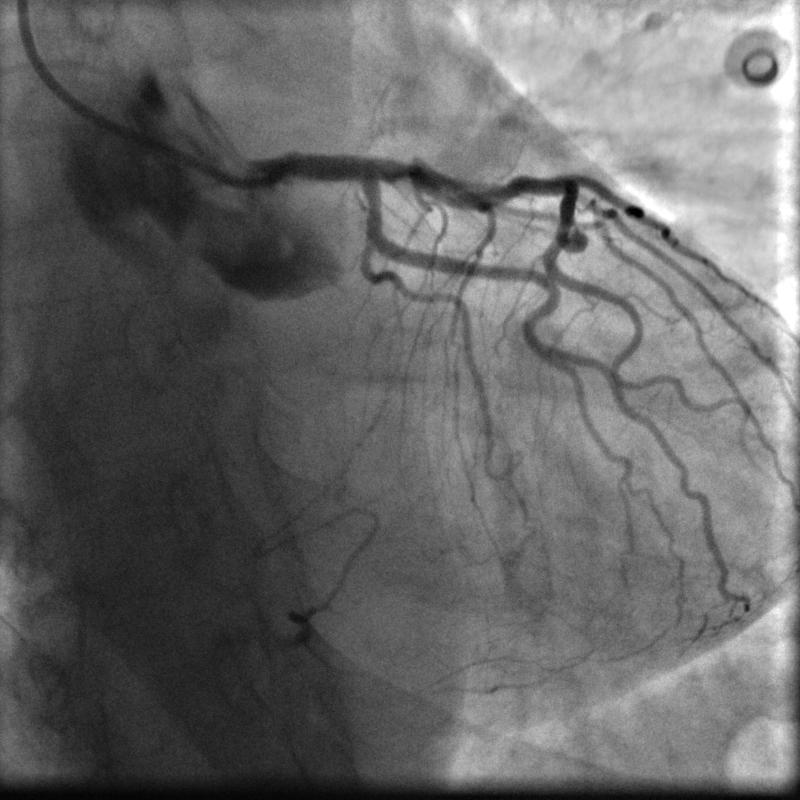Stenosis: (386, 151, 423, 196)
